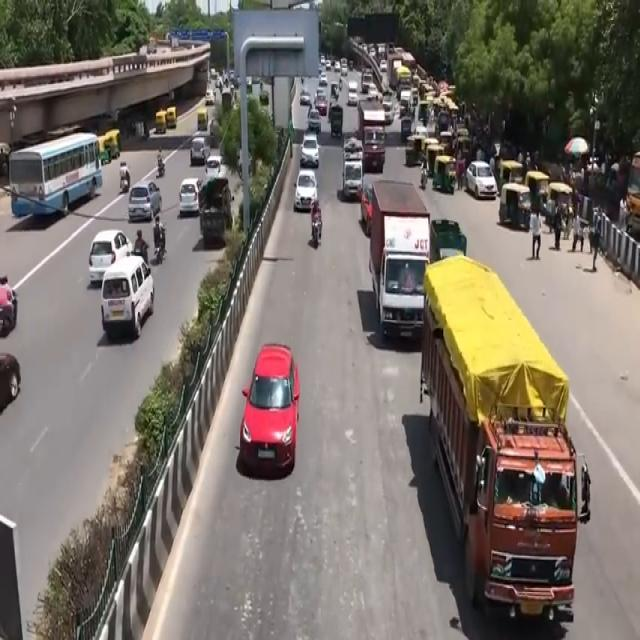BUS: (11, 131, 106, 224)
TRUCK: (425, 259, 584, 635), (364, 184, 430, 350)
